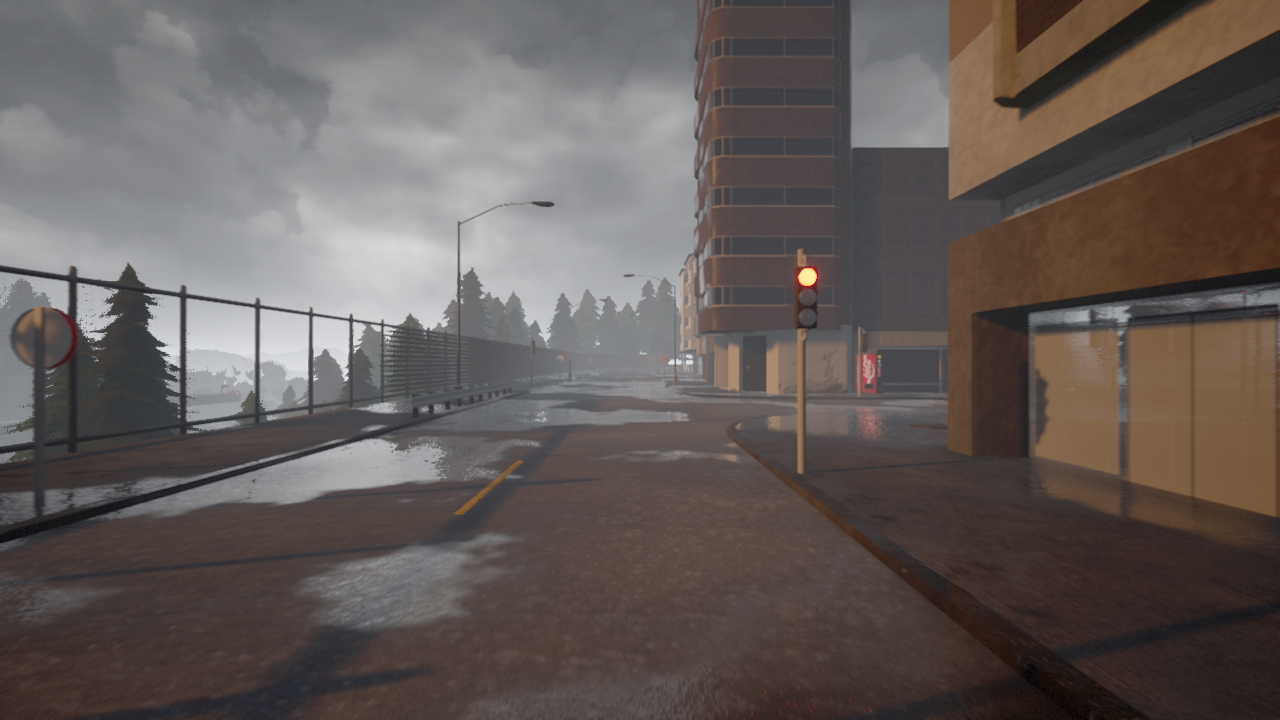red: (796, 265, 817, 328)
